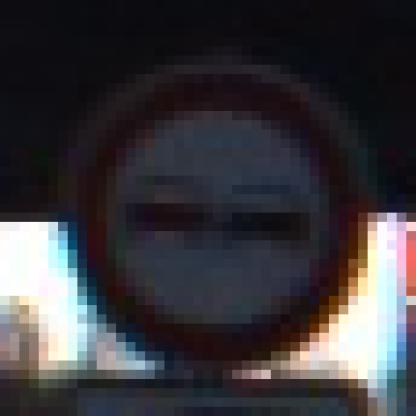No Overtaking: (49, 47, 369, 371)
